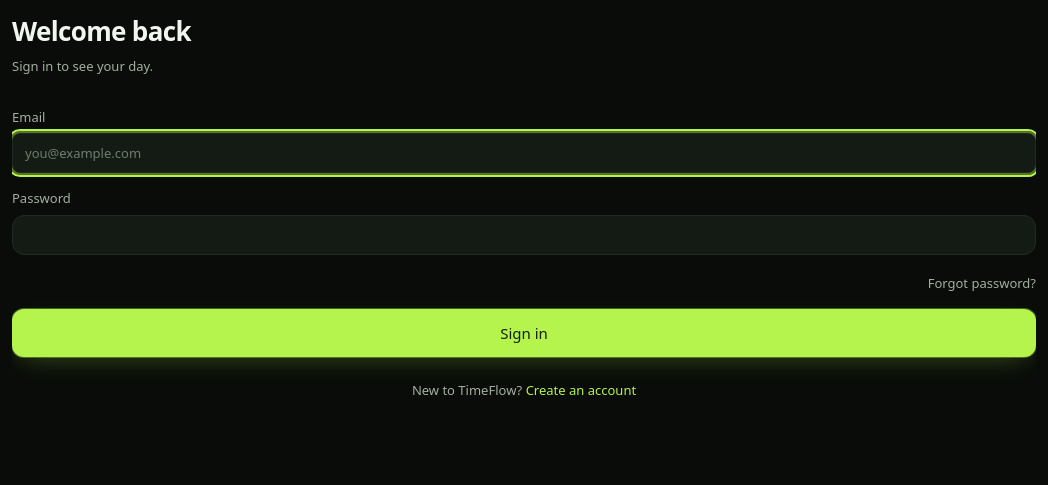
Login form › explains it instead of silently bouncing when the browser did not keep the session cookie
Type "ana@example.com" into the field labelled "Email". click: (524, 153)
box: [12,133,1036,173]
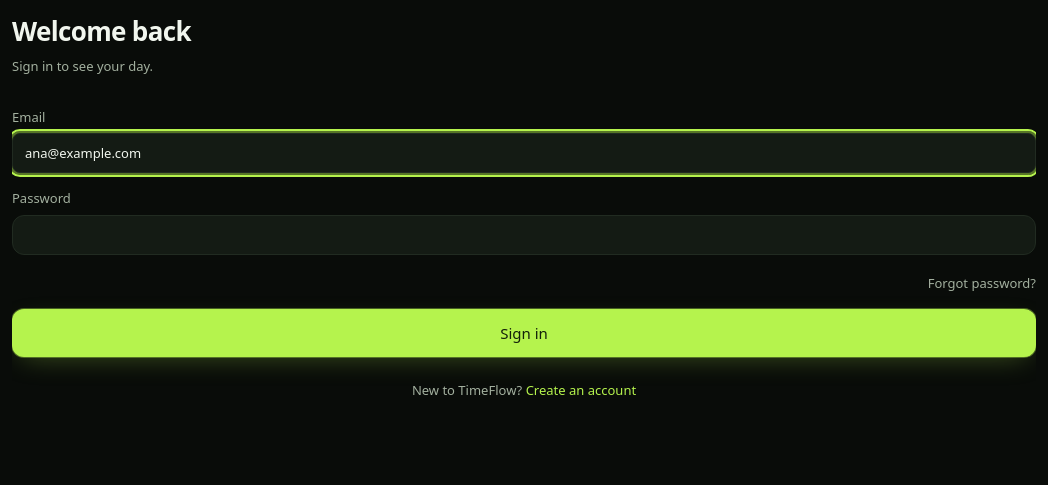
Type "correct-password" into the password field labelled "Password". click: (524, 235)
box: [12,215,1036,255]
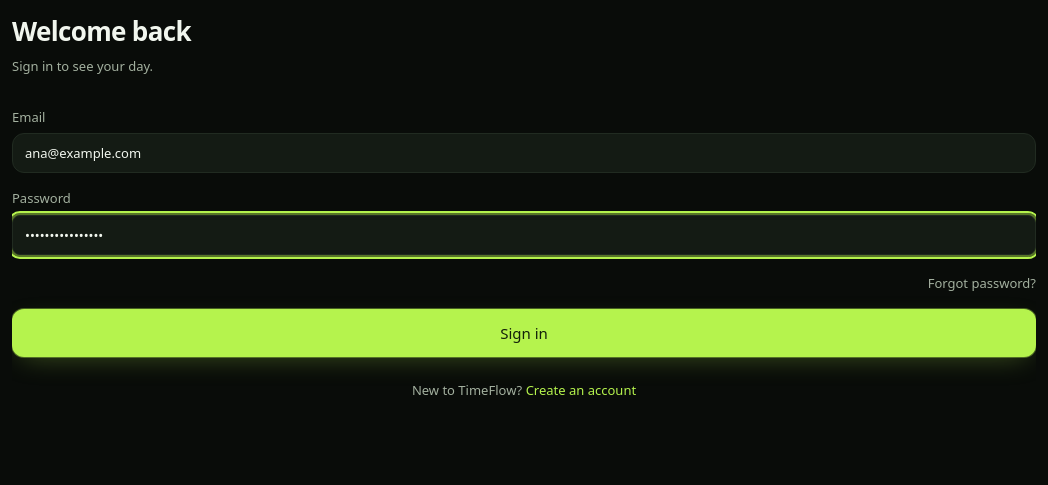
Click the button "Sign in". click: click(524, 333)
box: [12,309,1036,357]
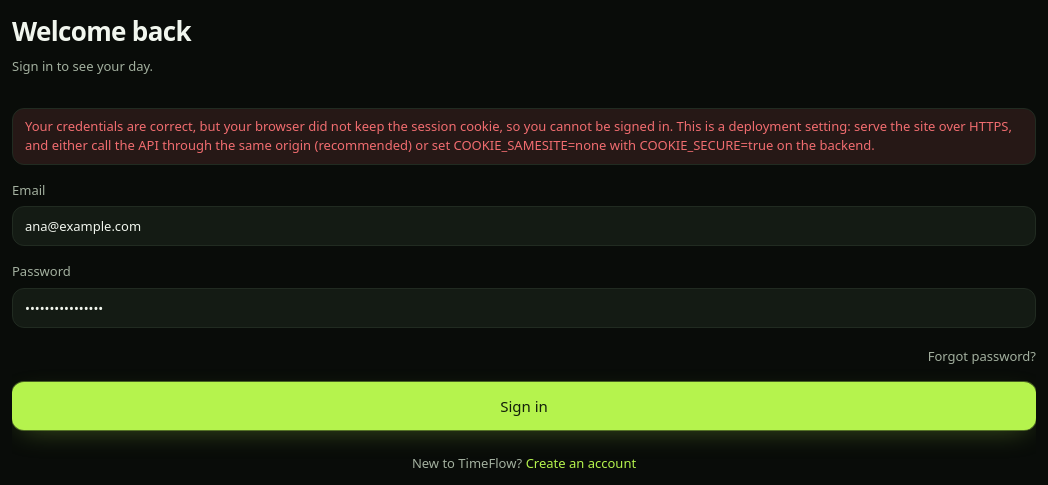
Check: the text "did not keep the session cookie" is shown, box [25,117,1012,154]
